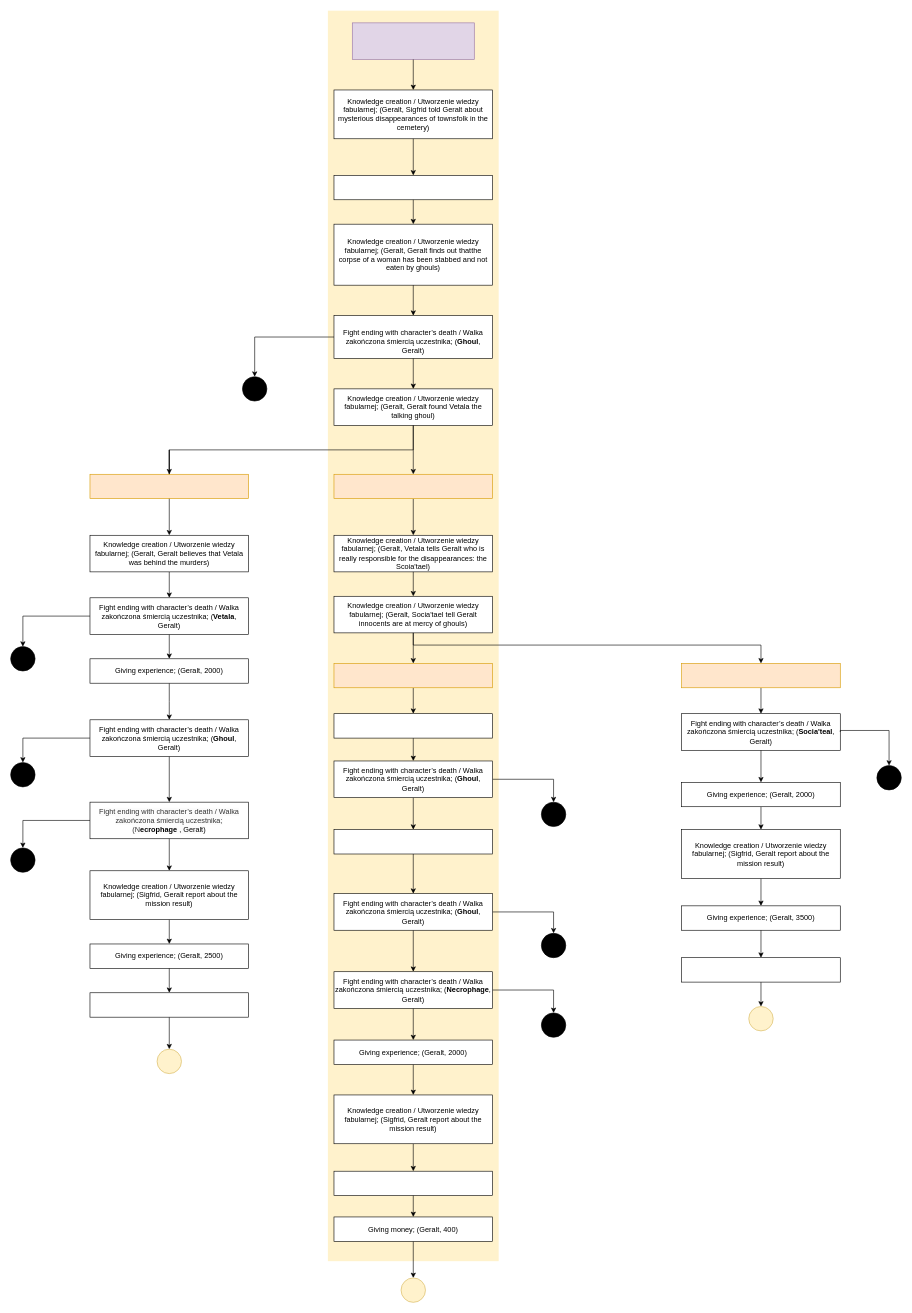
Some shapes in this 912 by 1313 pixel diagram are drawn without their labels. Each missing label, with the box of its shape:
(3.15 Six Feet Under): (352, 22, 474, 59)
Giving experience; (Geralt, 4500): (333, 1171, 493, 1196)
Giving money; (Geralt, 200): (89, 992, 249, 1017)
Giving money; (Geralt, 300): (681, 957, 840, 982)
Go Save the innocents: (333, 663, 493, 688)
Kill the murderers: (681, 663, 840, 688)
Kill Vetala: (89, 474, 249, 499)
Location change / Zmiana lokacji; (Geralt, Cemetery ): (333, 175, 493, 200)
Location change / Zmiana lokacji; (Geralt, Cemetery_Crypt ): (333, 713, 493, 738)
Location change / Zmiana lokacji; (Geralt, Crypt_Chamber ): (333, 829, 493, 854)
Spare Vetala: (333, 474, 493, 499)
